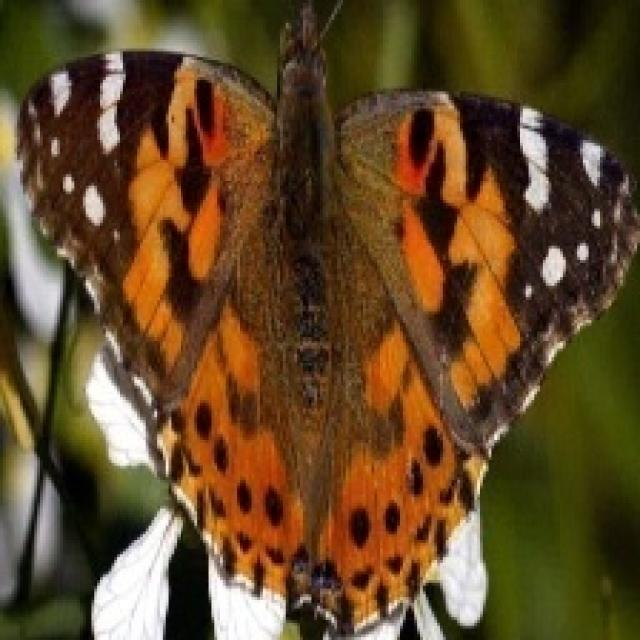butterfly: (18, 4, 640, 638)
